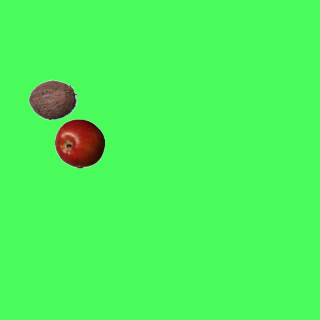Apple Braeburn: (54, 118, 104, 168)
Cocos: (27, 74, 77, 124)
